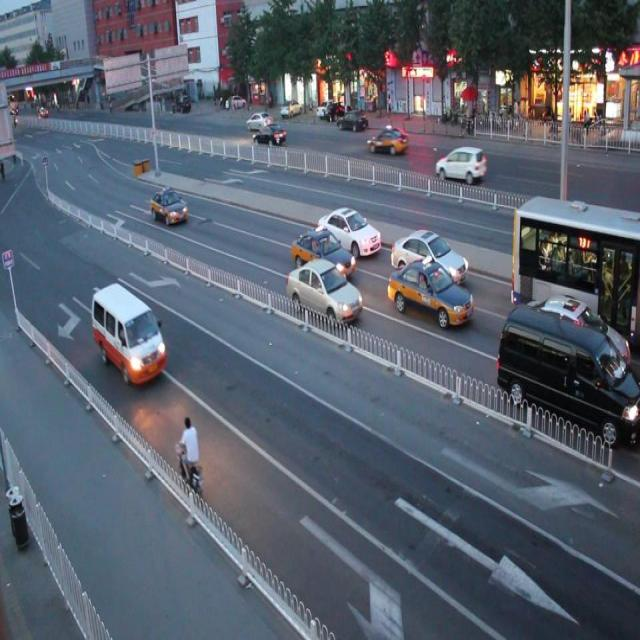car: (514, 293, 628, 393), (388, 260, 474, 330), (287, 257, 362, 327), (390, 228, 467, 283), (291, 225, 354, 282), (316, 204, 381, 254), (434, 146, 486, 182), (152, 187, 188, 227), (366, 124, 407, 156), (253, 124, 288, 147)
truck: (496, 300, 640, 446), (93, 282, 166, 386)
van: (510, 193, 640, 350)
